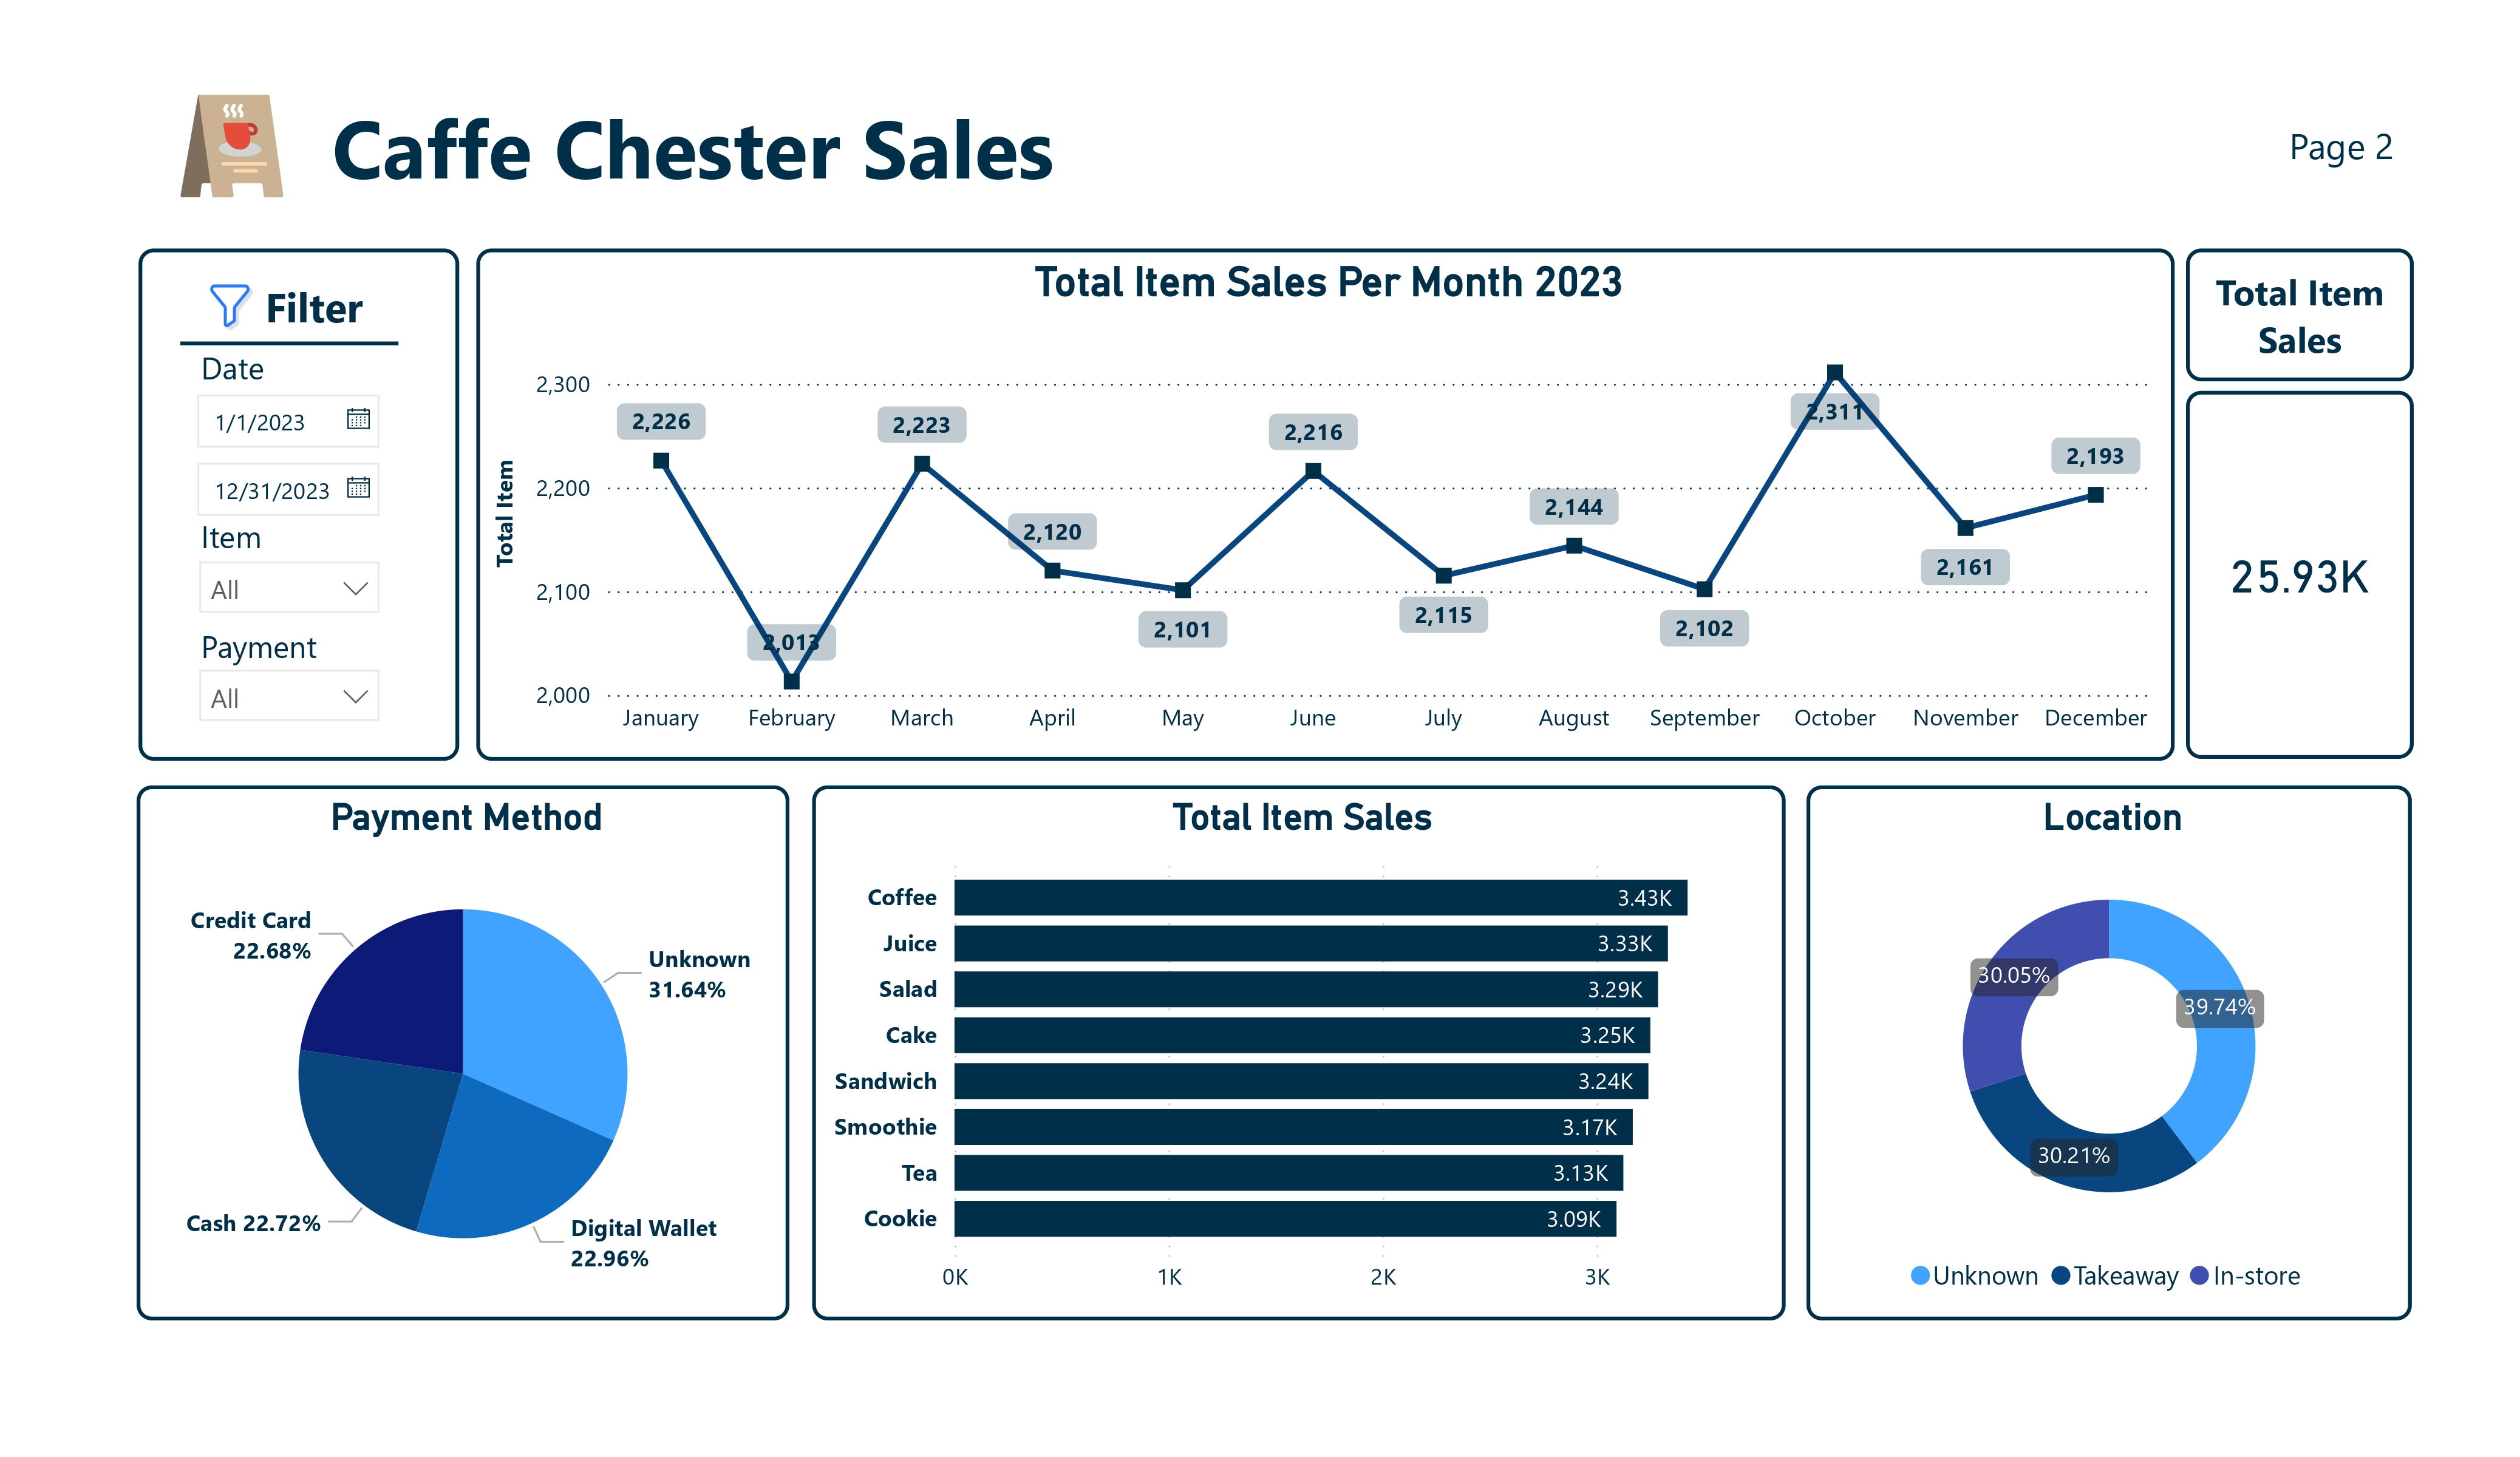

What the dashboard file says about the page in this screenshot:
{"tool":"powerbi","page":{"name":"Hal 2","canvas":[1280,720],"ordinal":1},"visuals":[{"type":"textbox","box":[145.7,18.6,412.9,70],"z":0},{"type":"image","box":[58,26,80,54],"z":1000},{"type":"textbox","box":[1173.5,34.5,73.3,37.4],"z":2000},{"type":"lineChart","title":"Total Item Sales Per Month 2023","fields":{"Category":["CafeSalesClean.Transaction Date.Variation.Date Hierarchy.Month"],"Y":["Sum(CafeSalesClean.Quantity)"]},"box":[226.7,106.7,895,270],"z":3000},{"type":"barChart","title":"Total Item Sales","fields":{"Category":["CafeSalesClean.Item"],"Y":["Sum(CafeSalesClean.Quantity)"]},"box":[404,390,512.7,282],"z":4000},{"type":"pieChart","title":"Payment Method","fields":{"Category":["CafeSalesClean.Payment Method"],"Y":["CountNonNull(CafeSalesClean.Payment Method)"]},"box":[48,390,344,282],"z":5000},{"type":"card","fields":{"Values":["Sum(CafeSalesClean.Quantity)"]},"box":[1128.5,182.3,120,193.8],"z":6000},{"type":"textbox","box":[1127.7,106.9,120,70],"z":7000},{"type":"donutChart","title":"Location","fields":{"Category":["CafeSalesClean.Location"],"Y":["CountNonNull(CafeSalesClean.Location)"]},"box":[928.3,390,318.3,281.7],"z":8000},{"type":"shape","box":[48.9,106.8,169.3,270],"z":9000},{"type":"textbox","box":[106.1,118.3,71.3,38.7],"z":10000},{"type":"slicer","fields":{"Values":["CafeSalesClean.Transaction Date"]},"box":[67.2,173.6,118.9,82.8],"z":11000},{"type":"slicer","fields":{"Values":["CafeSalesClean.Item"]},"box":[71.2,261.9,115,50],"z":12000},{"type":"textbox","box":[77,153.8,51.7,34],"z":13000},{"type":"textbox","box":[77,243.2,50.3,32.7],"z":14000},{"type":"shape","box":[71.2,148.8,115,16.2],"z":15000},{"type":"image","box":[80.4,121.7,34.8,32.2],"z":16000},{"type":"slicer","fields":{"Values":["CafeSalesClean.Payment Method"]},"box":[71,319.5,115,50],"z":17000},{"type":"textbox","box":[76.9,300.8,83.1,33.1],"z":18000}]}

Visuals, with their boxes on the page's 1280x720 design canvas (x1, y1, x2, y2). These are canvas units, not pixel positions in the 2520x1457 screenshot, which may show the page scaled, cropped or inside an application window:
textbox: {"left": 146, "top": 19, "right": 559, "bottom": 89}
image: {"left": 58, "top": 26, "right": 138, "bottom": 80}
textbox: {"left": 1174, "top": 34, "right": 1247, "bottom": 72}
"Total Item Sales Per Month 2023" lineChart: {"left": 227, "top": 107, "right": 1122, "bottom": 377}
"Total Item Sales" barChart: {"left": 404, "top": 390, "right": 917, "bottom": 672}
"Payment Method" pieChart: {"left": 48, "top": 390, "right": 392, "bottom": 672}
card - Sum(CafeSalesClean.Quantity): {"left": 1128, "top": 182, "right": 1248, "bottom": 376}
textbox: {"left": 1128, "top": 107, "right": 1248, "bottom": 177}
"Location" donutChart: {"left": 928, "top": 390, "right": 1247, "bottom": 672}
shape: {"left": 49, "top": 107, "right": 218, "bottom": 377}
textbox: {"left": 106, "top": 118, "right": 177, "bottom": 157}
slicer - CafeSalesClean.Transaction Date: {"left": 67, "top": 174, "right": 186, "bottom": 256}
slicer - CafeSalesClean.Item: {"left": 71, "top": 262, "right": 186, "bottom": 312}
textbox: {"left": 77, "top": 154, "right": 129, "bottom": 188}
textbox: {"left": 77, "top": 243, "right": 127, "bottom": 276}
shape: {"left": 71, "top": 149, "right": 186, "bottom": 165}
image: {"left": 80, "top": 122, "right": 115, "bottom": 154}
slicer - CafeSalesClean.Payment Method: {"left": 71, "top": 320, "right": 186, "bottom": 370}
textbox: {"left": 77, "top": 301, "right": 160, "bottom": 334}
